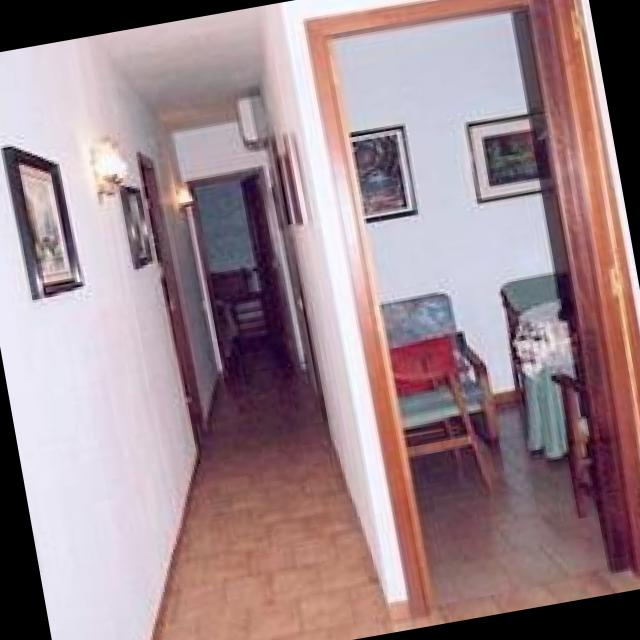ceiling beam: (93, 7, 265, 125)
chair -occluded-: (380, 291, 496, 489), (501, 271, 559, 330)
door bars: (524, 0, 640, 581), (135, 147, 206, 449), (236, 171, 286, 344)
floor -X: (153, 331, 640, 640)
light fixture: (88, 137, 130, 197), (167, 181, 198, 208)
picture crop: (0, 141, 84, 305), (462, 104, 554, 206), (352, 117, 421, 227), (115, 185, 153, 272)
pillow occluded: (388, 333, 464, 400)
table -X: (508, 296, 572, 456)
wall clock: (282, 0, 524, 614), (0, 39, 218, 640), (334, 11, 555, 403), (259, 2, 386, 580), (167, 117, 270, 182)
